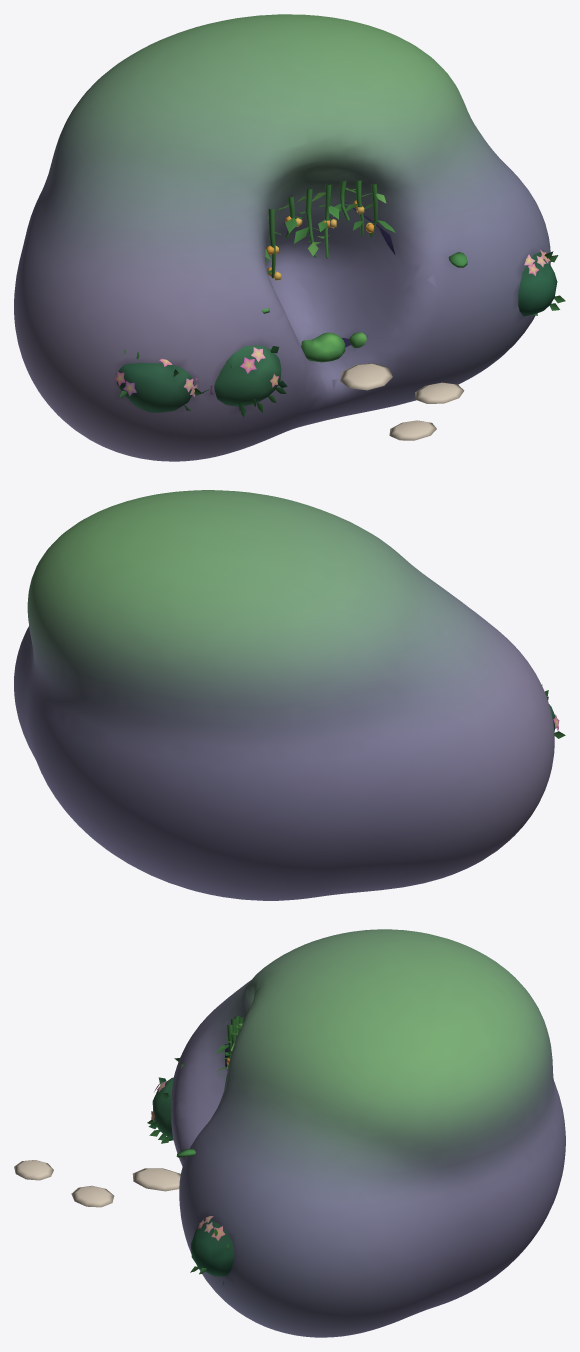
Rendered from prp_cave_door.glb.
3 renders of one model, top to bottom at view 1: azimuth 30°, elevation 25°; view 2: azimuth 150°, elevation 25°; view 3: azimuth 270°, elevation 25°, orthographic. The views are drawn at different scales.
Parts seen in each view (by area): view 1: INST_prp_cave_door_door; view 2: INST_prp_cave_door_door; view 3: INST_prp_cave_door_door.
Boxes of the visible parts, <box> form: INST_prp_cave_door_door: <box>14,14,565,461</box>; INST_prp_cave_door_door: <box>14,490,565,900</box>; INST_prp_cave_door_door: <box>14,929,565,1337</box>.
Size of the model in its own units: 7.29 by 5.01 by 7.47.
